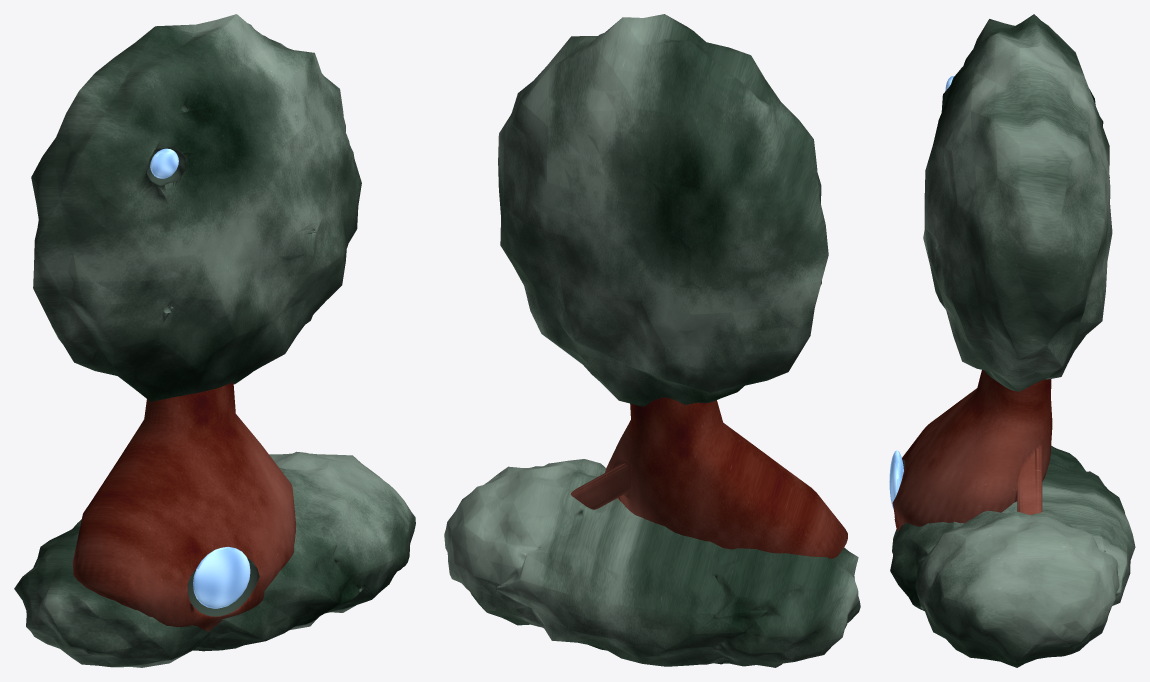
The picture shows the model from 3 angles, left to right: view 1: azimuth 30°, elevation 25°; view 2: azimuth 150°, elevation 25°; view 3: azimuth 270°, elevation 25°; orthographic projection. The views are drawn at different scales.
Parts seen in each view (by area): view 1: Sharir upright ovoid mineral mass, Sharir lower copper fitting and support, Sharir irregular low ore footing, Sharir larger lower pale inset, Sharir small upper pale inset; view 2: Sharir upright ovoid mineral mass, Sharir irregular low ore footing, Sharir lower copper fitting and support; view 3: Sharir upright ovoid mineral mass, Sharir irregular low ore footing, Sharir lower copper fitting and support, Sharir larger lower pale inset.
Boxes of the visible parts, x1,y1,x2,y2 form: Sharir upright ovoid mineral mass: (31, 14, 361, 401); Sharir lower copper fitting and support: (72, 383, 296, 631); Sharir irregular low ore footing: (14, 451, 415, 667); Sharir larger lower pale inset: (193, 546, 250, 608); Sharir small upper pale inset: (150, 148, 178, 178); Sharir upright ovoid mineral mass: (498, 14, 828, 406); Sharir irregular low ore footing: (444, 459, 860, 667); Sharir lower copper fitting and support: (571, 397, 847, 558); Sharir upright ovoid mineral mass: (923, 14, 1112, 391); Sharir irregular low ore footing: (890, 445, 1135, 667); Sharir lower copper fitting and support: (892, 370, 1052, 531); Sharir larger lower pale inset: (889, 450, 903, 509).
Size of the model in its own units: 1.63 by 2.53 by 0.9793.
5 materials, 4 textured.
